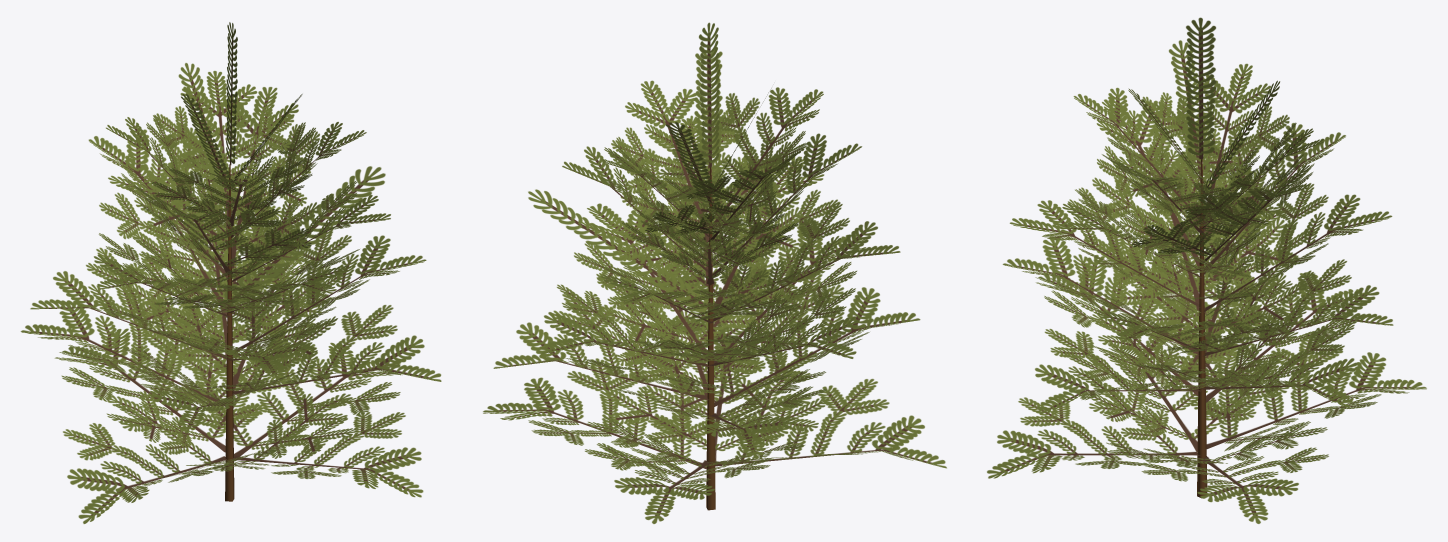
The model's file is Young_Fir_Tree_3.glb.
3 views of the same model, side by side, from view 1: azimuth 30°, elevation 25°; view 2: azimuth 150°, elevation 25°; view 3: azimuth 270°, elevation 25° (orthographic).
Visible parts, largest first — view 1: Young_Fir_Tree_3; view 2: Young_Fir_Tree_3; view 3: Young_Fir_Tree_3.
Part boxes in pixels (box(x1,y1,x2,y2)): Young_Fir_Tree_3: box(20, 22, 441, 523); Young_Fir_Tree_3: box(483, 22, 946, 523); Young_Fir_Tree_3: box(987, 17, 1426, 523).
Bounding box in the file's own units: 1.23 × 1.42 × 1.2.
Materials: 2 (2 with a texture image).
